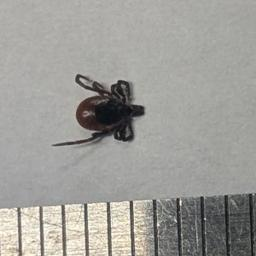Ixodes scapularis: (51, 73, 145, 148)
